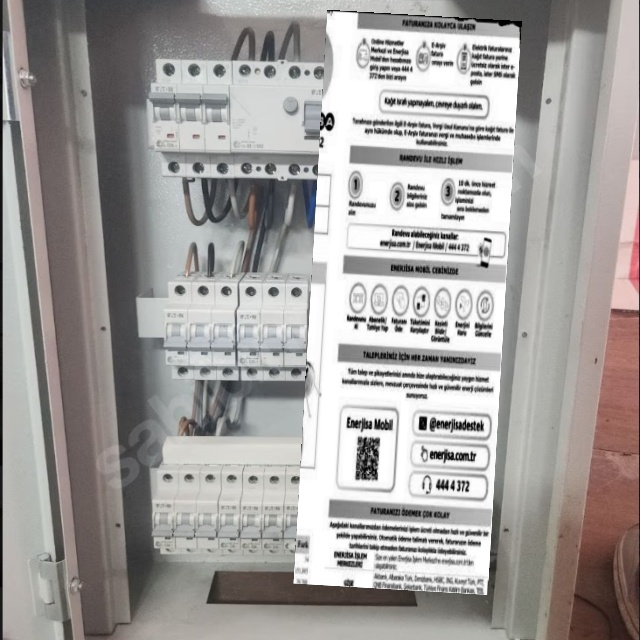electricity-bill: (293, 10, 522, 594)
